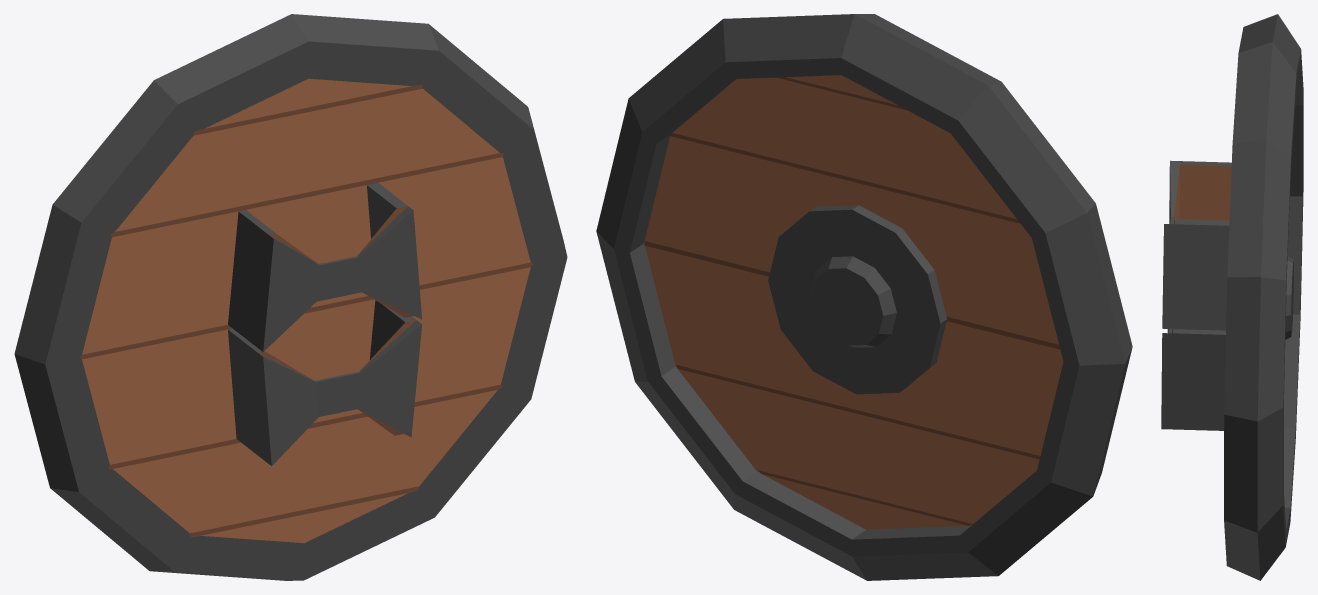
File: Shield.fbx
The picture shows the model from 3 angles, left to right: view 1: azimuth 30°, elevation 25°; view 2: azimuth 150°, elevation 25°; view 3: azimuth 270°, elevation 25°; orthographic projection. The views are drawn at different scales.
Visible parts, largest first — view 1: Shield; view 2: Shield; view 3: Shield.
Part boxes in pixels (box(x1,y1,x2,y2)): Shield: box(14, 14, 567, 580); Shield: box(596, 14, 1132, 580); Shield: box(1161, 14, 1303, 580).
Bounding box in the file's own units: 3.4 × 3.4 × 0.8525.
